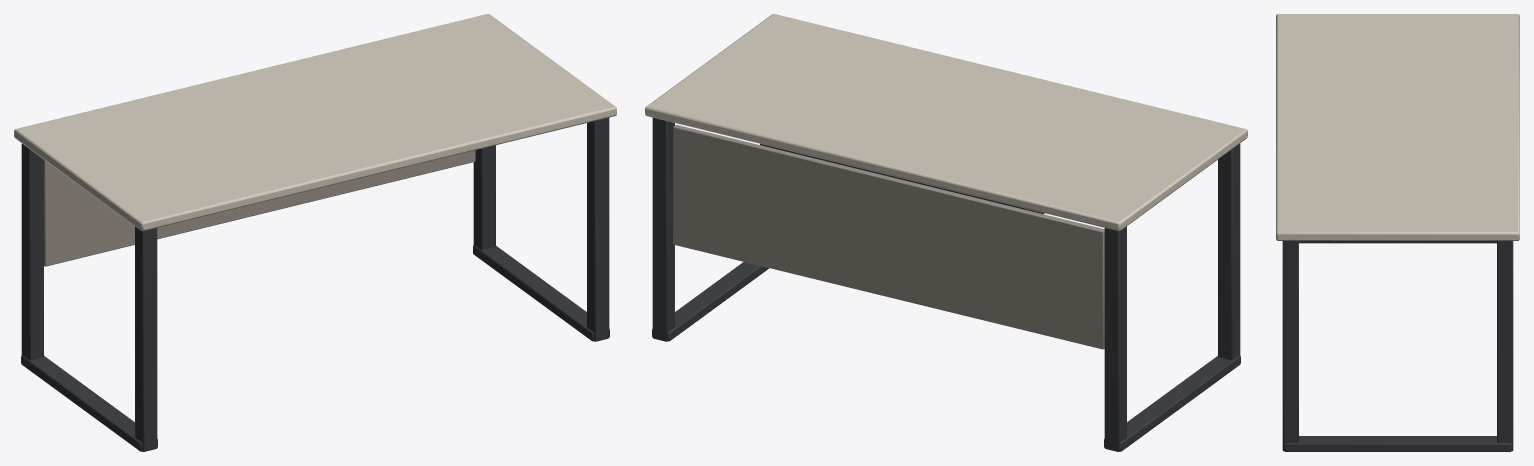
File: desk_basic.fbx
The picture shows the model from 3 angles, left to right: view 1: azimuth 30°, elevation 25°; view 2: azimuth 150°, elevation 25°; view 3: azimuth 270°, elevation 25°; orthographic projection. The views are drawn at different scales.
Visible parts, largest first — view 1: DeskBasic; view 2: DeskBasic; view 3: DeskBasic.
Boxes of the visible parts, x1,y1,x2,y2 form: DeskBasic: [14, 14, 616, 451]; DeskBasic: [645, 14, 1247, 451]; DeskBasic: [1276, 14, 1519, 451].
Bounding box in the file's own units: 1.6 × 0.75 × 0.75.
